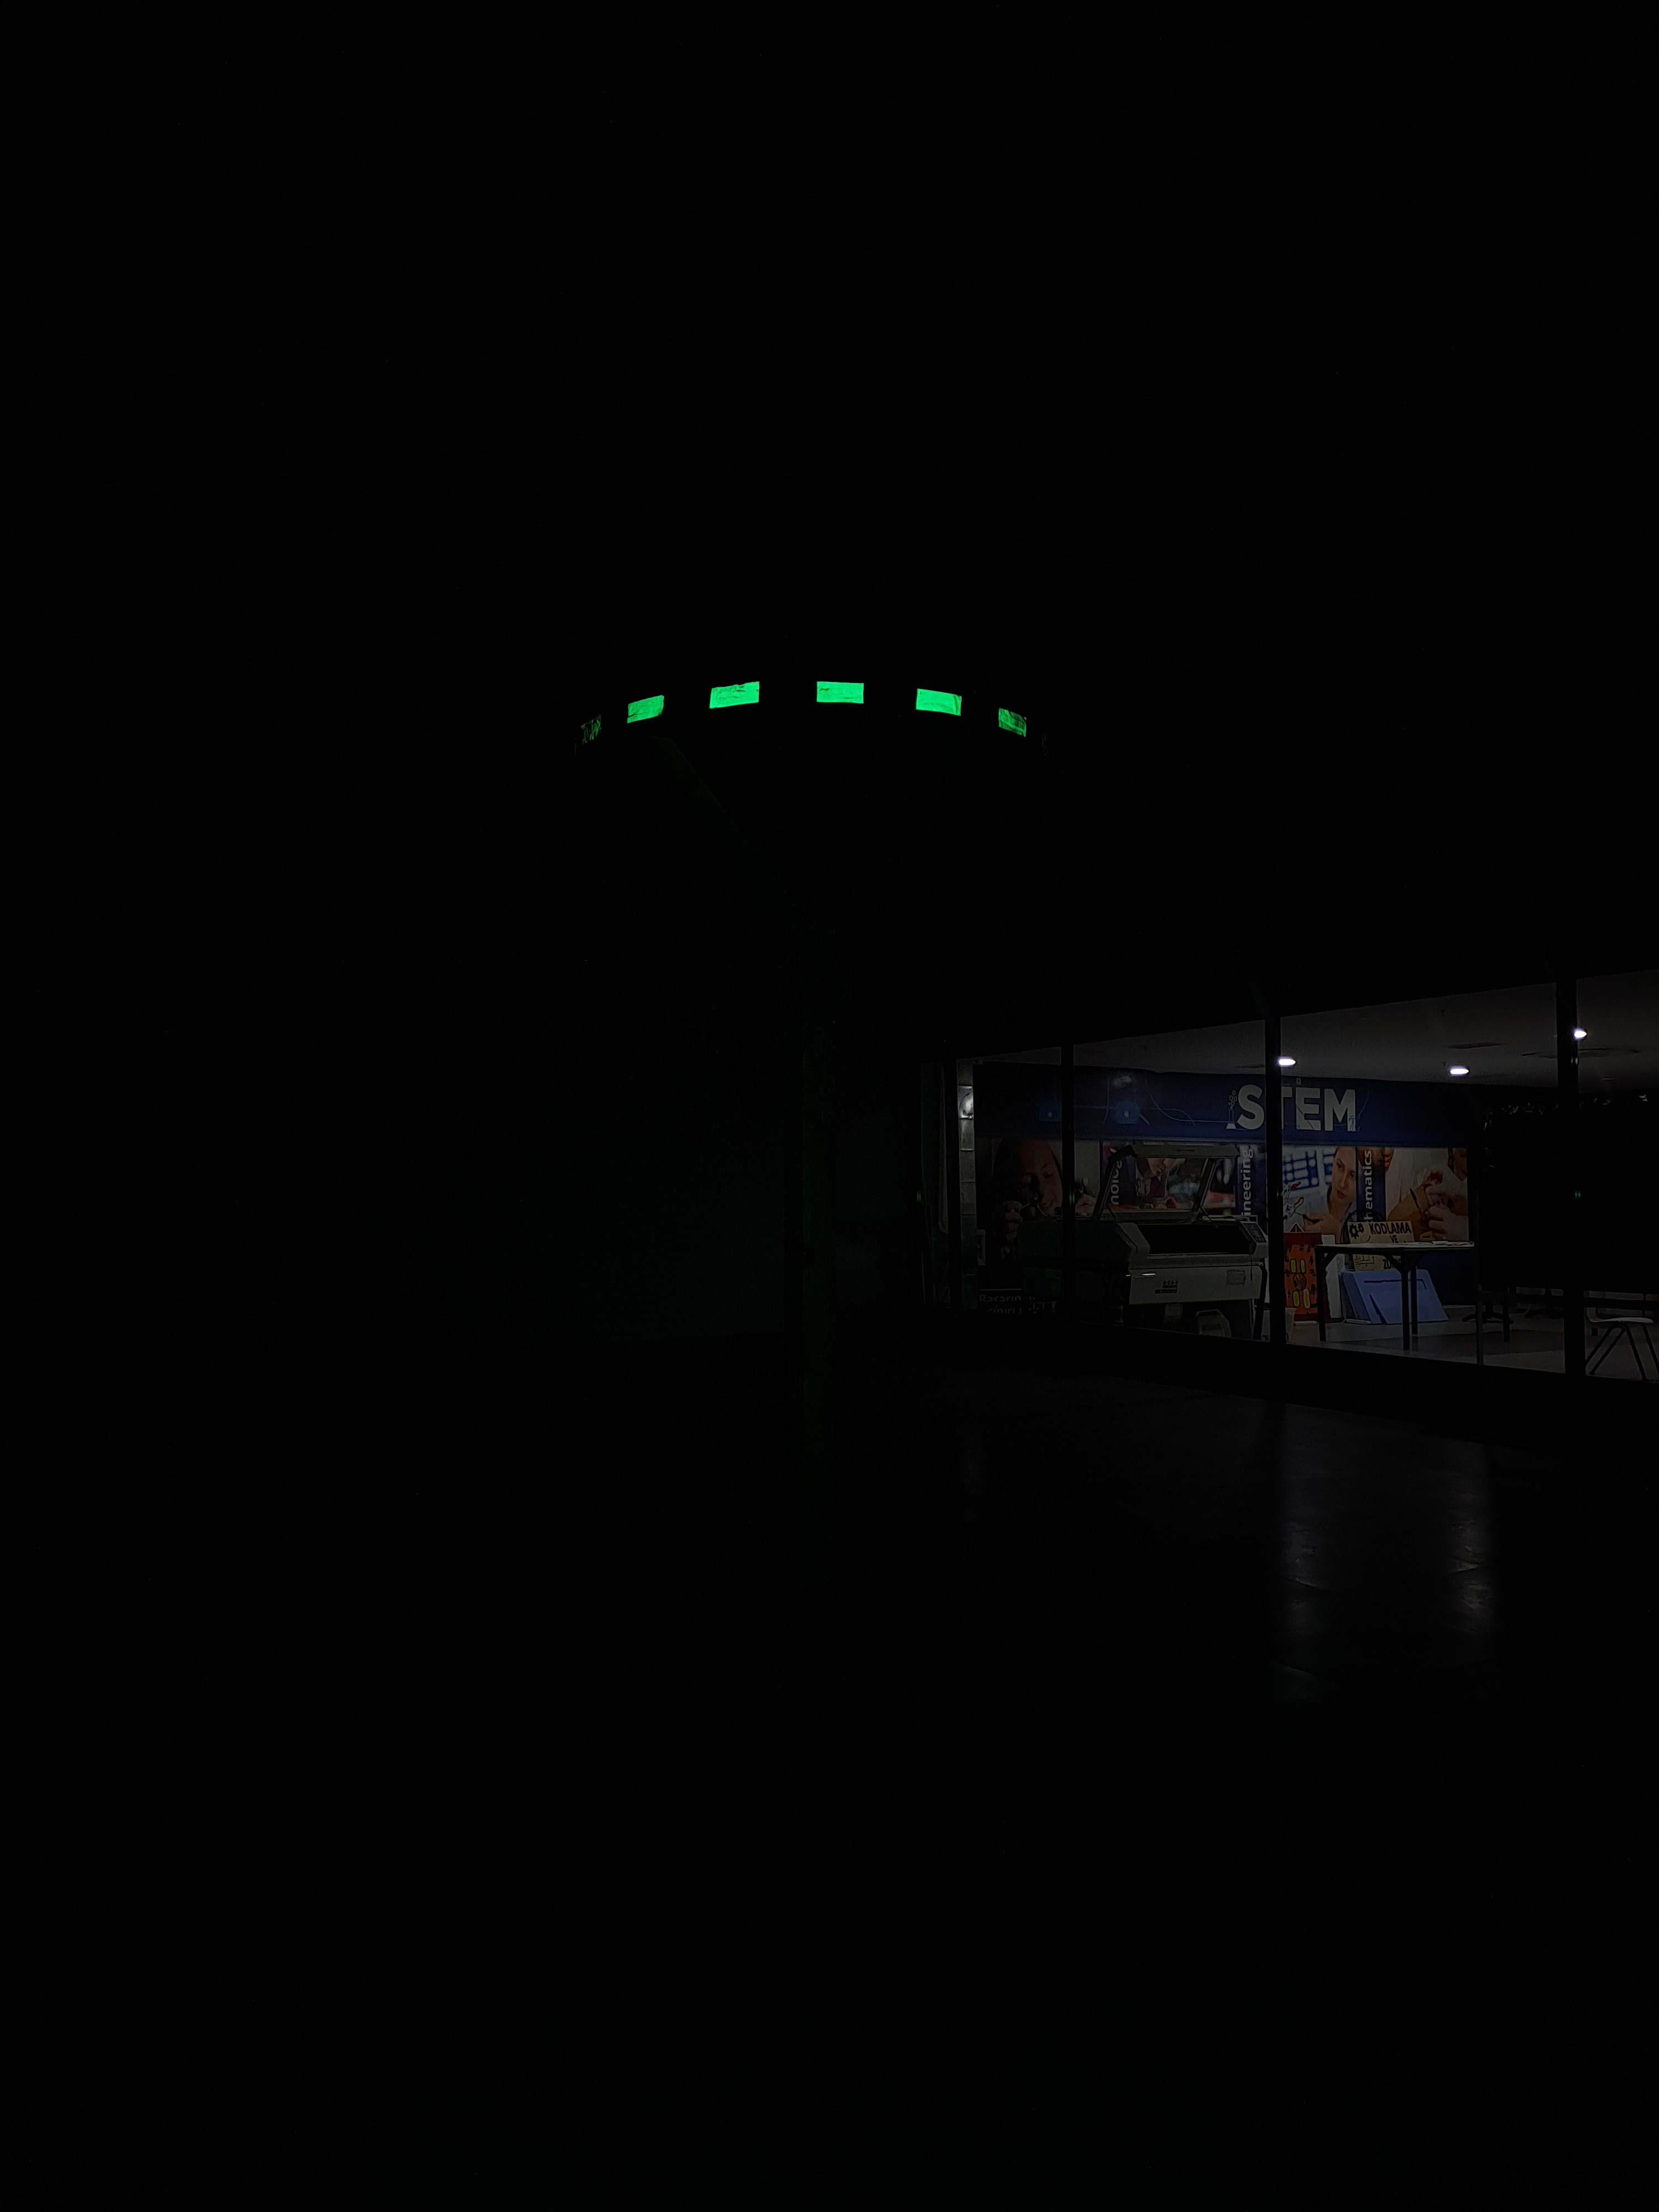hoop: (619, 676, 1033, 742)
